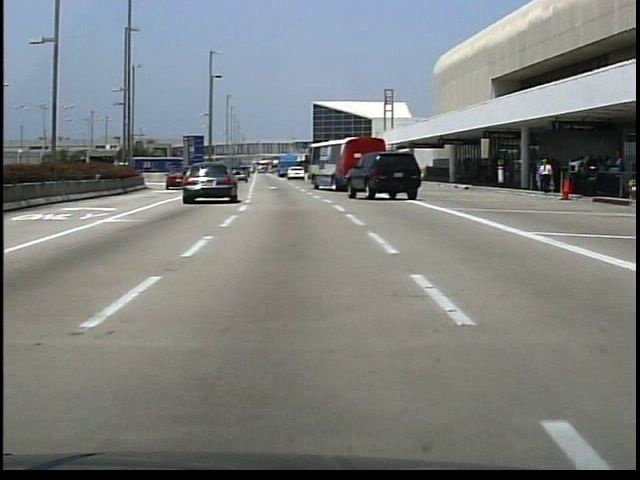person: (537, 157, 556, 196)
